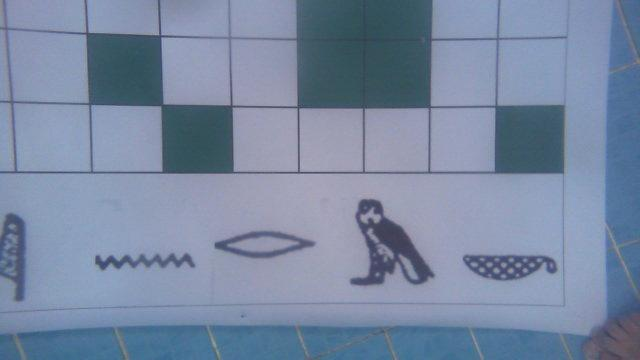Basket: (457, 251, 560, 286)
Mouth: (211, 225, 316, 262)
Owl: (346, 192, 438, 291)
Reed: (0, 213, 30, 307)
Water: (91, 247, 198, 273)
